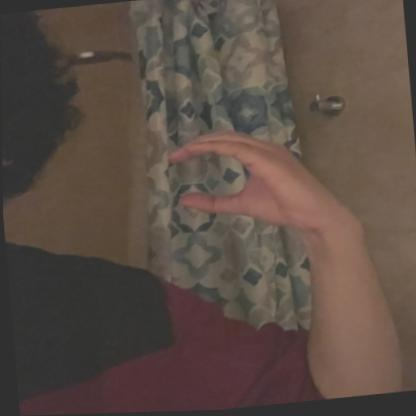C: (158, 117, 334, 237)
